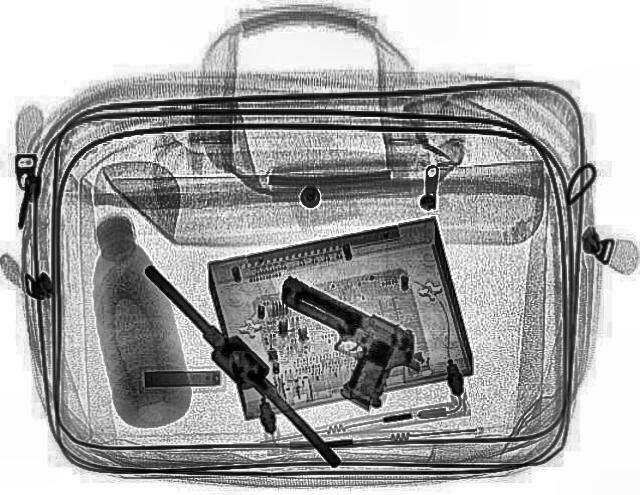Gun: (222, 272, 440, 414)
